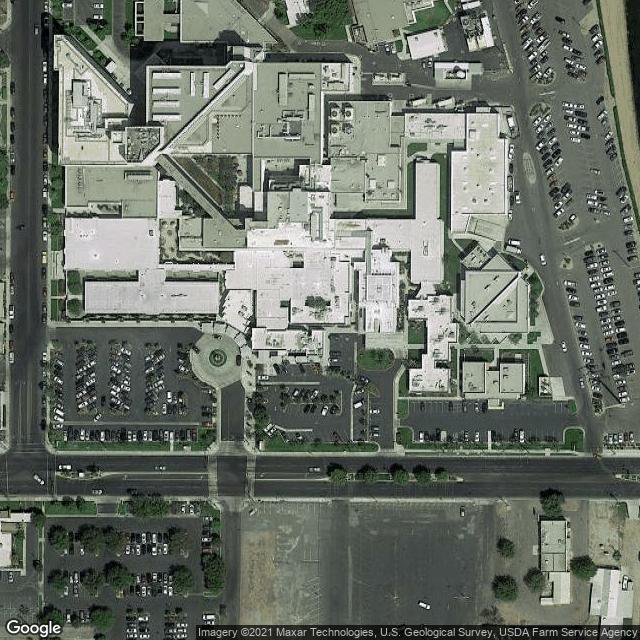Helipad: (208, 345, 228, 370)
